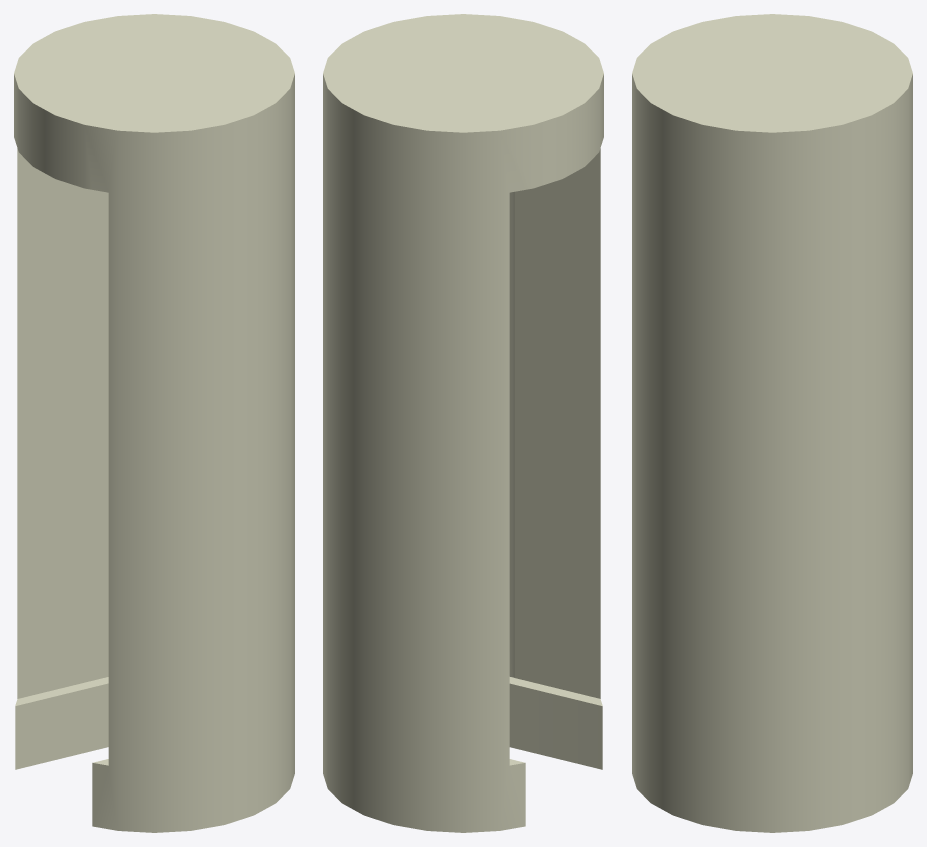
File: 20cc_syringe_hammer_casing.dae
3 views of the same model, side by side, from view 1: azimuth 30°, elevation 25°; view 2: azimuth 150°, elevation 25°; view 3: azimuth 270°, elevation 25° (orthographic).
Visible parts, largest first — view 1: SketchUp; view 2: SketchUp; view 3: SketchUp.
Part boxes in pixels (left/top/right/bottom): SketchUp: left=14, top=14, right=294, bottom=832; SketchUp: left=323, top=14, right=603, bottom=832; SketchUp: left=632, top=14, right=912, bottom=832.
Bounding box in the file's own units: 1.57 × 1.57 × 4.33.
